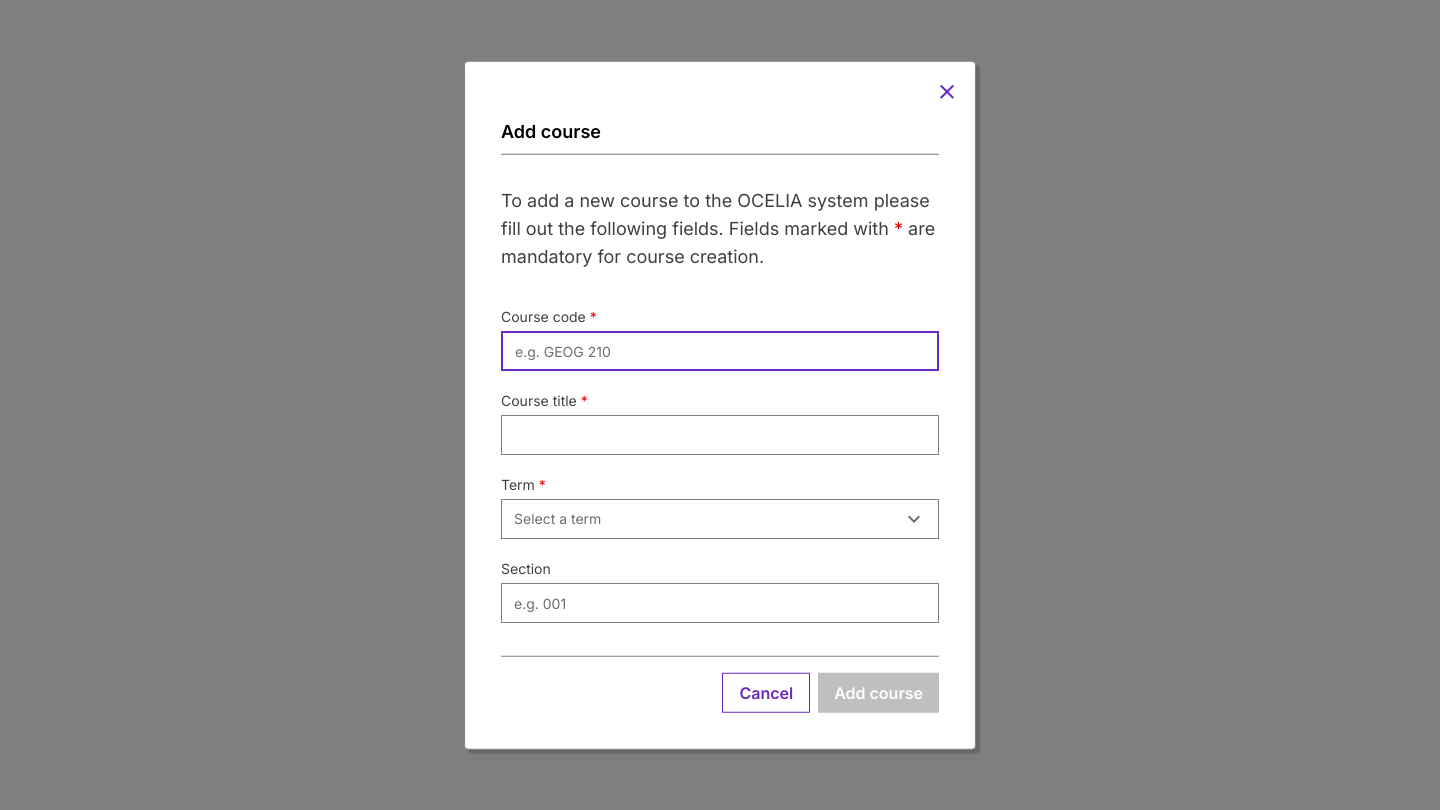
Scenario: CreateCourse › disables Add course until code, title, and term are all provided
This screenshot has width=1440, height=810.
expect the button "Add course" is disabled: met, box [818,672,939,712]
Type "GEOG 250" into the field labelled "Course code *". click: point(720, 351)
box: [501,331,939,371]
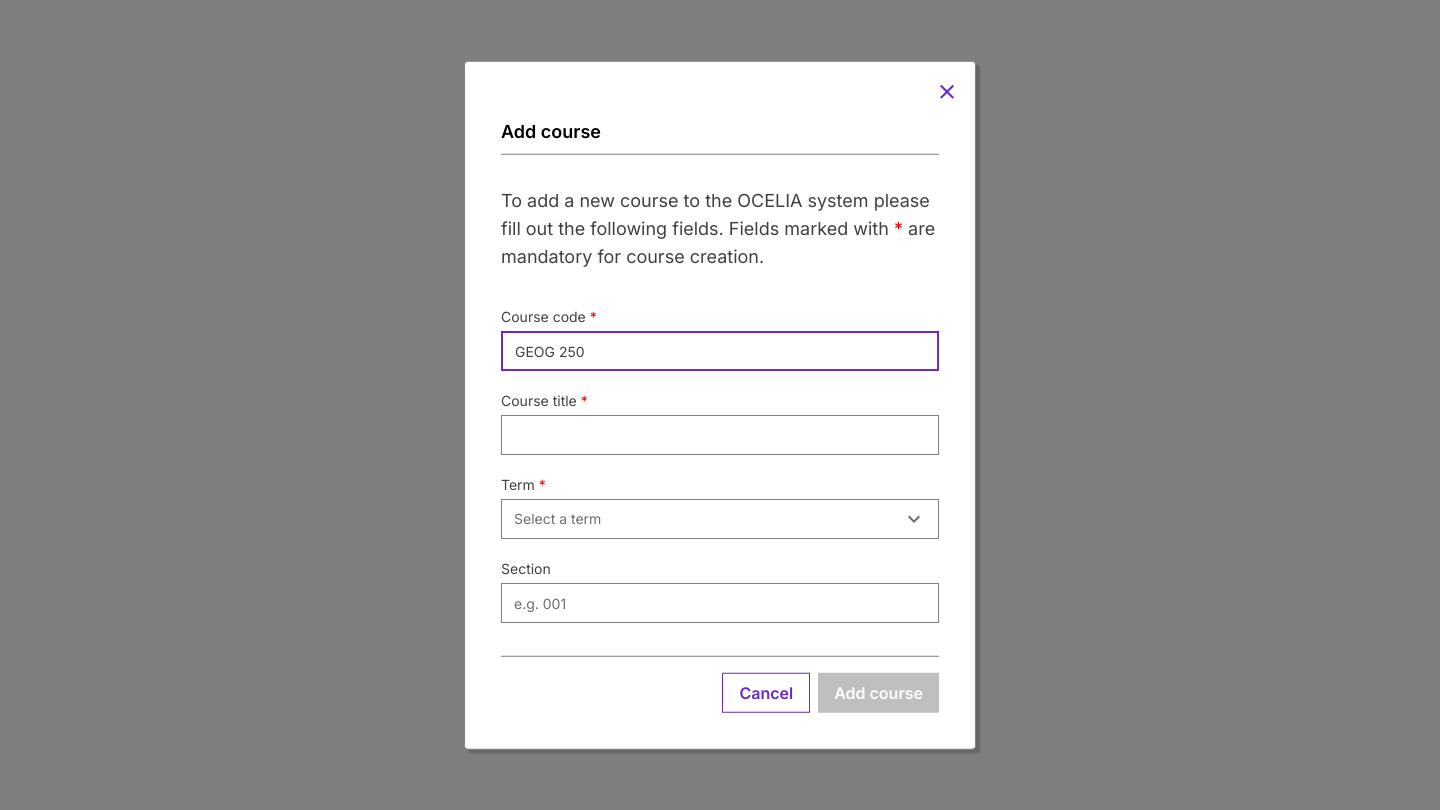
Type "Intro Geography" into the field labelled "Course title *". click: point(720, 435)
box: [501,415,939,455]
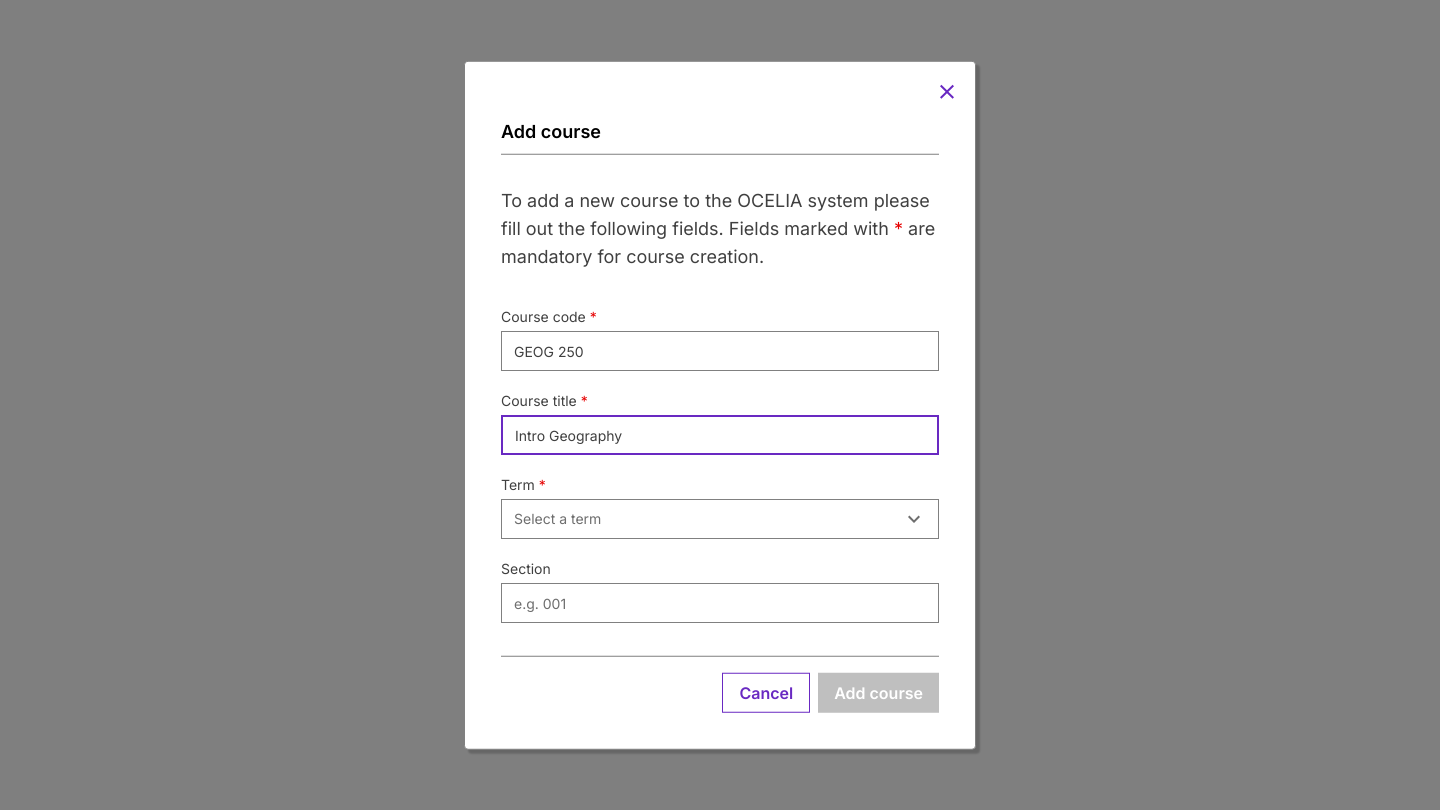
expect the button "Add course" is disabled: met, box [818,672,939,712]
Click the dropdown labelled "term". click: point(558, 518)
box: [501,499,939,539]
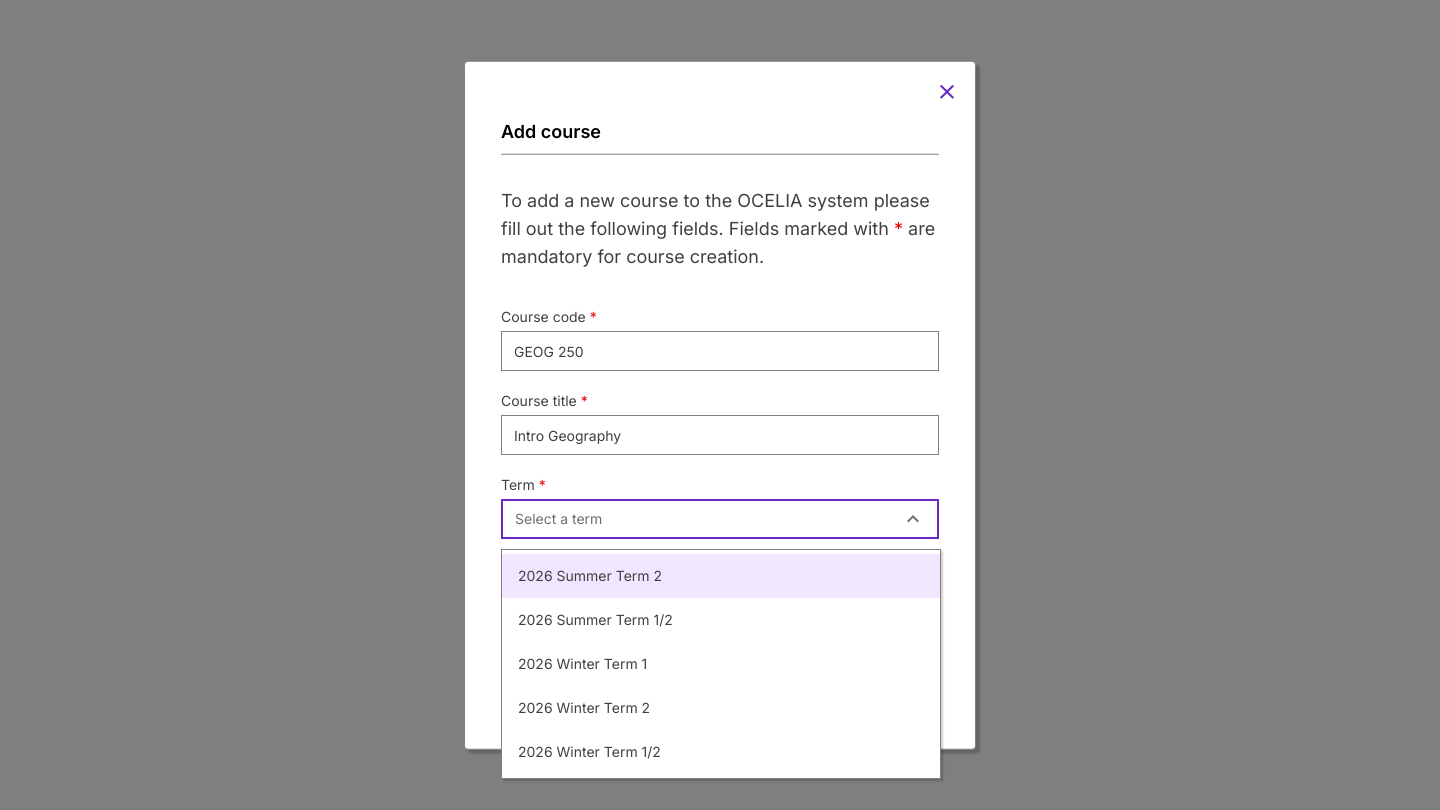
Click the option "2026 Winter Term 2". click: point(584, 708)
box: [518,699,650,716]
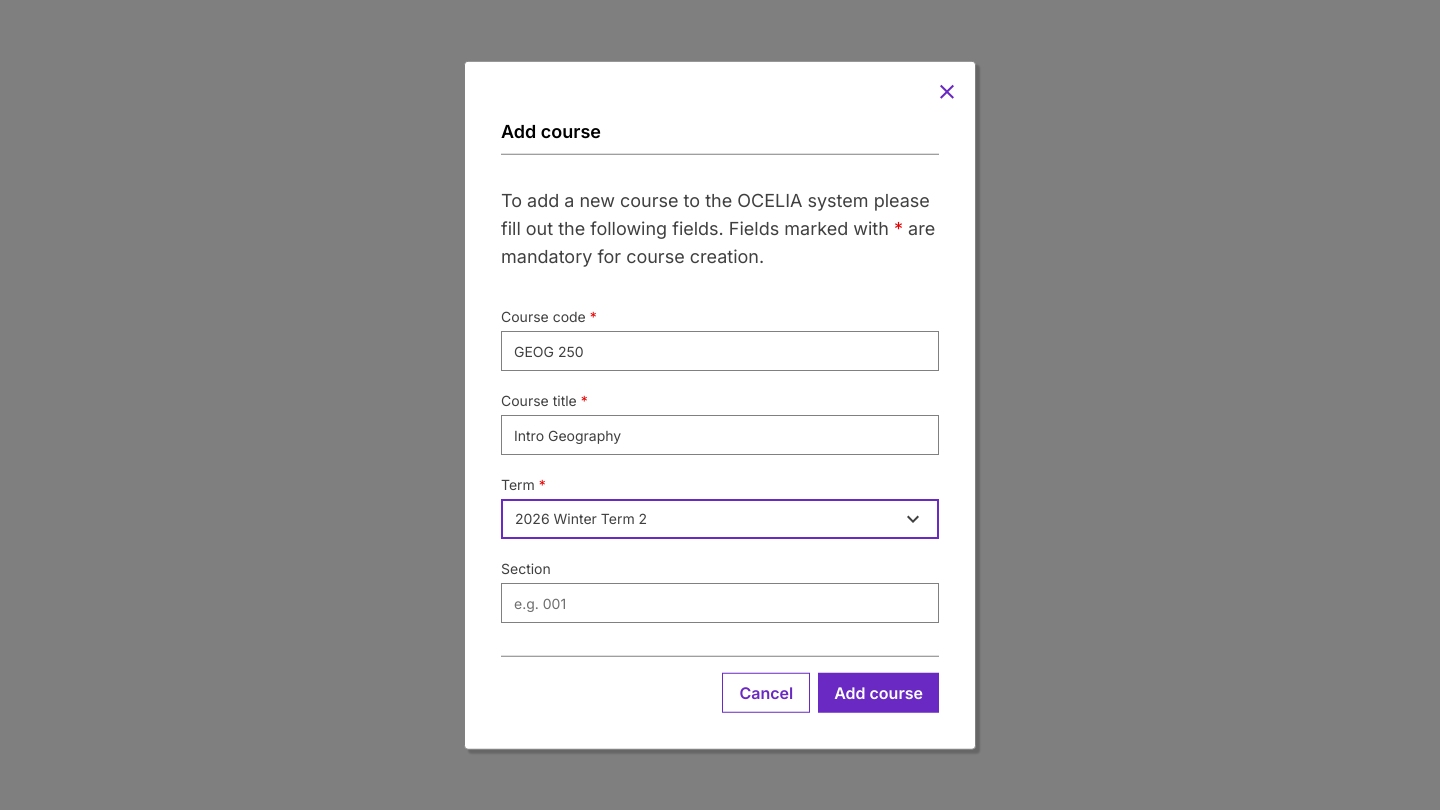
expect the button "Add course" is enabled: met, box [818,672,939,712]
